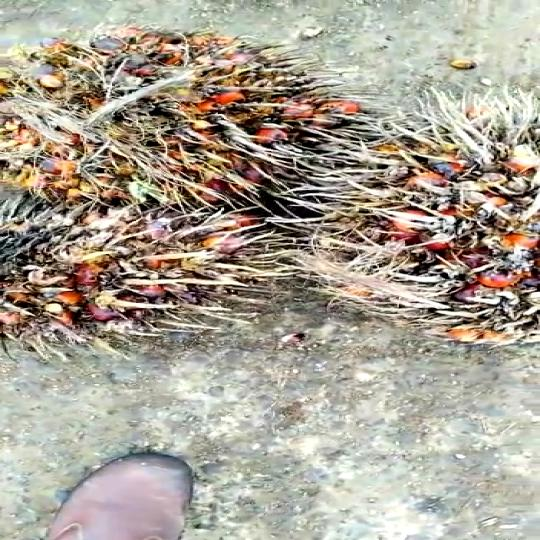terlalu masak: (281, 110, 540, 341), (0, 196, 314, 368), (0, 28, 324, 194)
